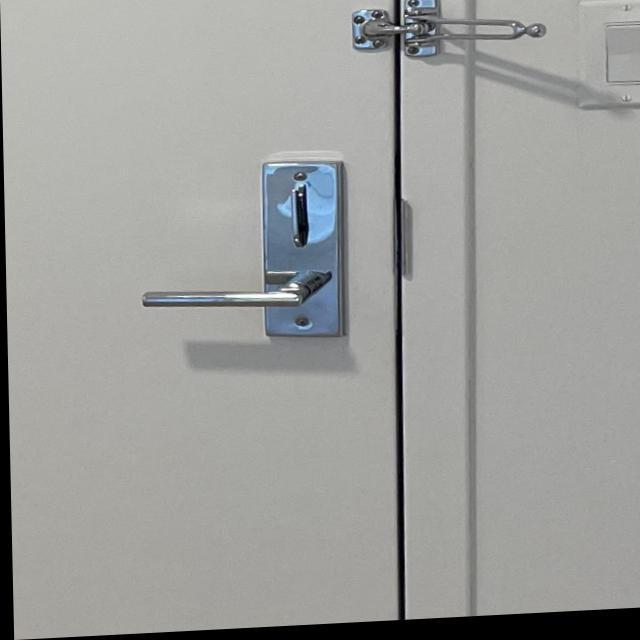door_handle: (127, 257, 355, 335)
